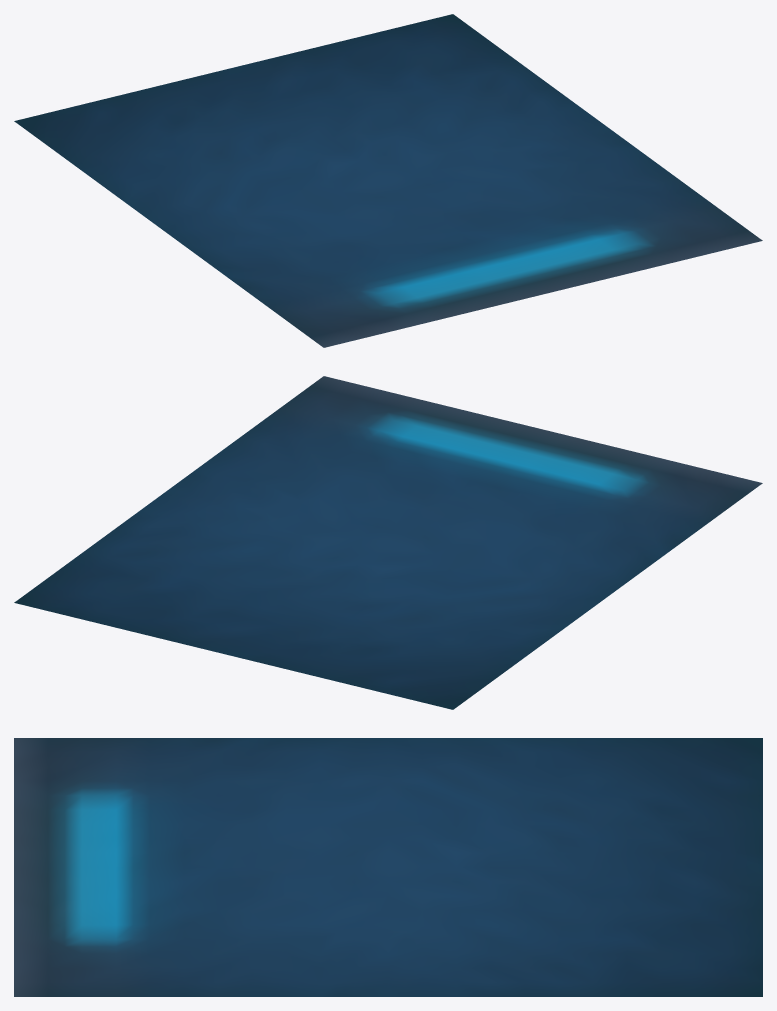
File: Floor-single.fbx
3 views of the same model, one above another, from view 1: azimuth 30°, elevation 25°; view 2: azimuth 150°, elevation 25°; view 3: azimuth 270°, elevation 25° (orthographic). The views are drawn at different scales.
Parts seen in each view (by area): view 1: Room.030; view 2: Room.030; view 3: Room.030.
Part boxes in pixels (<box>): Room.030: <box>14,14,762,347</box>; Room.030: <box>14,376,762,709</box>; Room.030: <box>14,738,762,996</box>.
Bounding box in the file's own units: 1800 × 0 × 2200.
